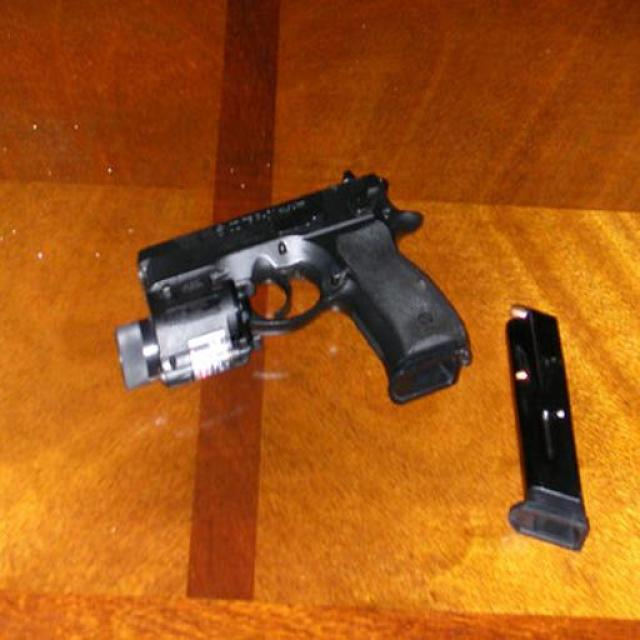pistol: (108, 166, 473, 404)
